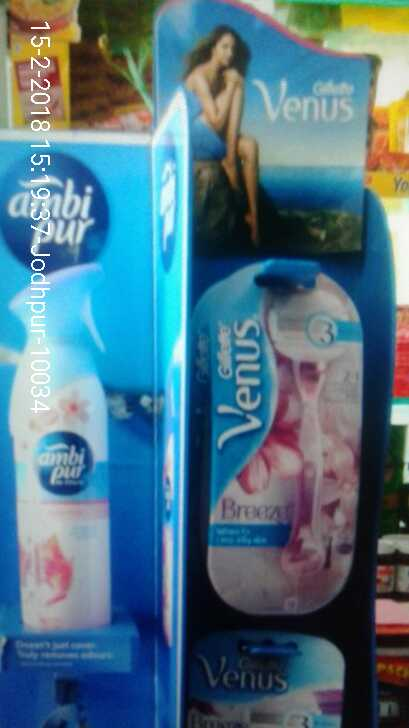beauty: (197, 267, 364, 623)
home: (6, 239, 119, 633)
